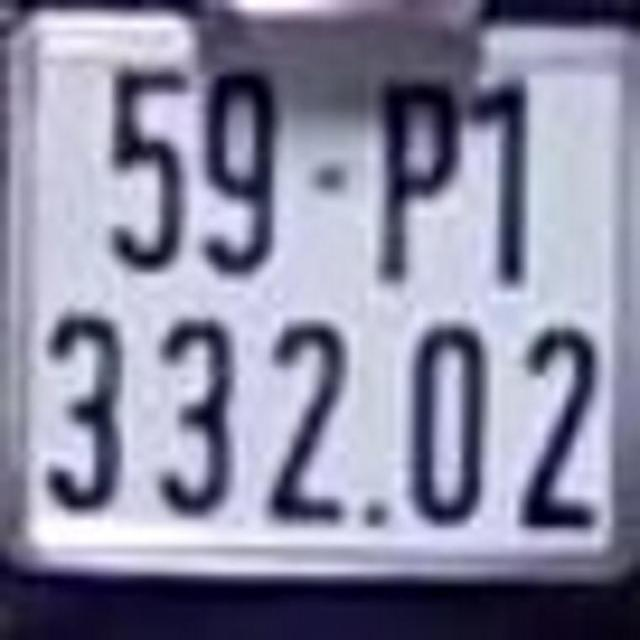0: (402, 309, 488, 530)
1: (464, 68, 539, 287)
2: (258, 308, 348, 527), (515, 309, 599, 538)
3: (153, 304, 234, 520), (42, 306, 122, 516)
5: (104, 58, 194, 273)
9: (198, 59, 277, 279)
P: (371, 64, 464, 282)
